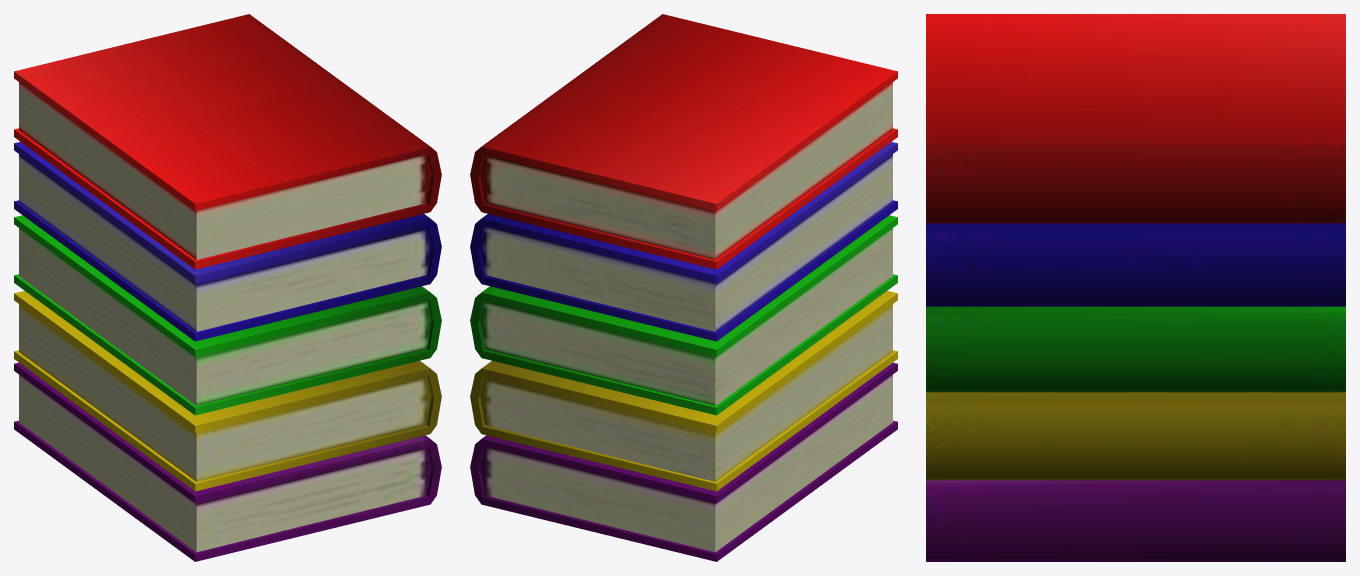
File: pila libri.FBX
3 renders of one model, left to right at view 1: azimuth 30°, elevation 25°; view 2: azimuth 150°, elevation 25°; view 3: azimuth 270°, elevation 25°, orthographic. The views are drawn at different scales.
Visible parts, largest first — view 1: pila libri; view 2: pila libri; view 3: pila libri.
Boxes of the visible parts, x1,y1,x2,y2 form: pila libri: (14,14,441,561); pila libri: (470,14,897,561); pila libri: (926,14,1345,561).
Bounding box in the file's own units: 0.2528 × 0.3506 × 0.3215.
